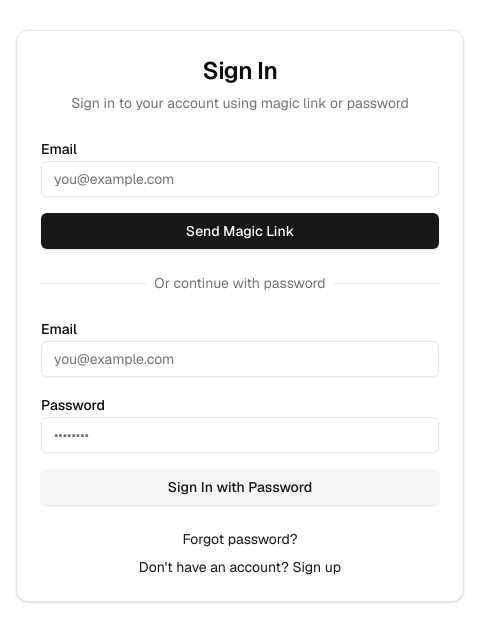
LoginPage › should show error for invalid email on magic link
The image size is (481, 634).
Step 1. Type "invalid-email" into the 1st field labelled "Email" → (240, 179), box [41,161,439,197]
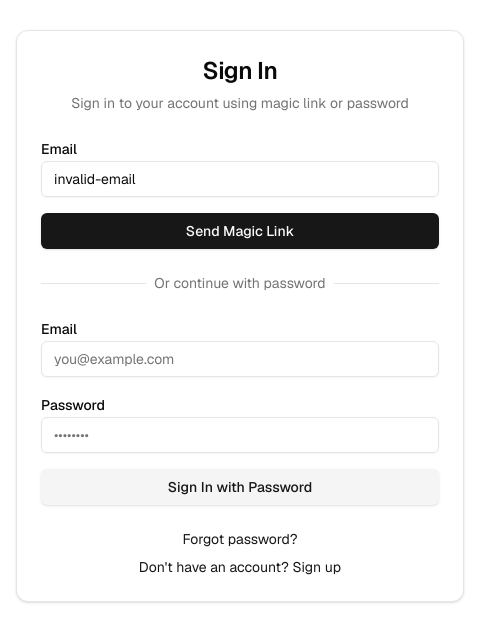
Step 2. Click the button "Send Magic Link" → (240, 231), box [41,213,439,249]
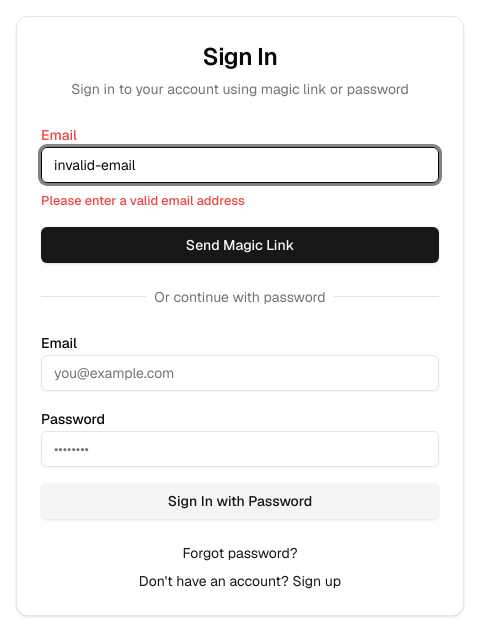
expect the text "Please enter a valid email address" is shown: met, box [41,192,245,209]
